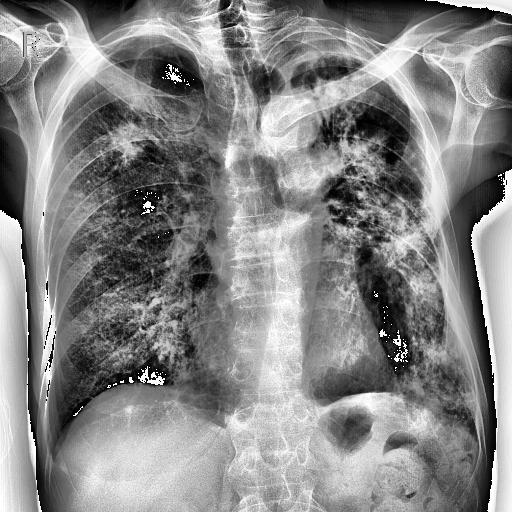0- Aortic enlargement: (259, 92, 316, 156), (262, 94, 323, 152)
1- Atelectasis: (240, 14, 426, 90)
11- Pleural thickening: (256, 28, 412, 94), (266, 26, 389, 82), (102, 22, 201, 53)
13- Pulmonary fibrosis: (308, 63, 470, 425), (314, 44, 448, 318), (99, 119, 154, 167), (110, 120, 148, 168)
4- Consolidation: (314, 44, 448, 318)
6- Infiltration: (304, 76, 488, 445), (308, 63, 470, 425), (314, 44, 448, 318), (391, 334, 478, 432), (101, 112, 151, 166)
7- Lung Opacity: (287, 146, 330, 196)
8- Nodule-Mass: (287, 146, 330, 196)
